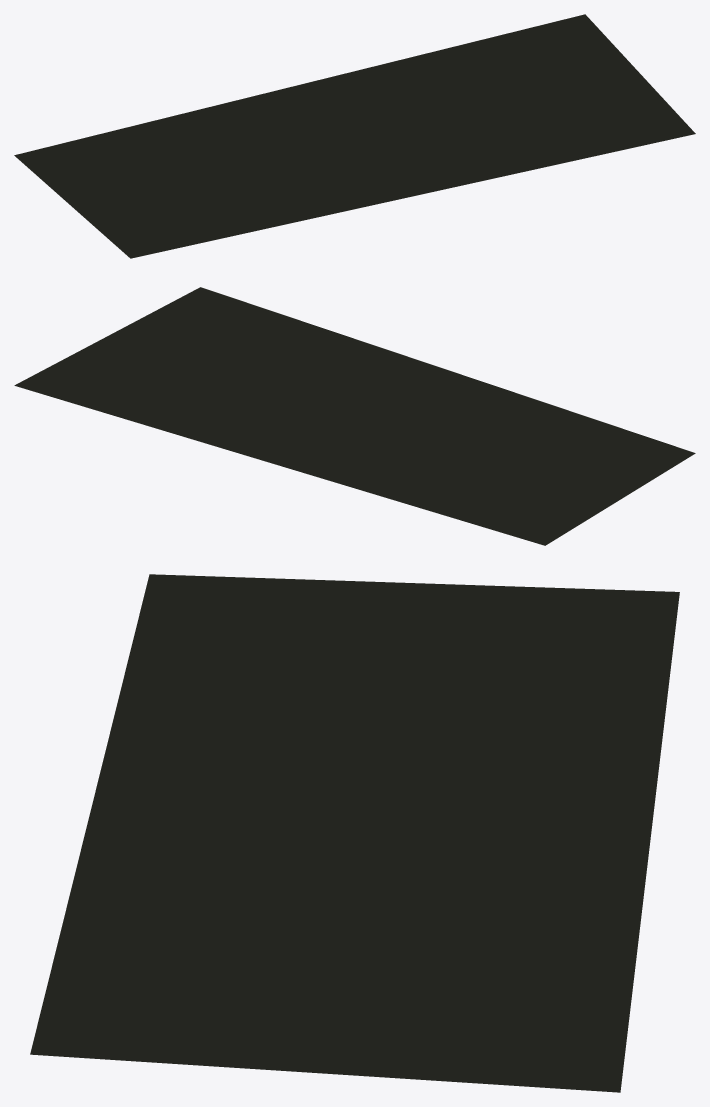
The model's file is OZ_99_sn_sdwbox04A.glb.
The picture shows the model from 3 angles, top to bottom: view 1: azimuth 30°, elevation 25°; view 2: azimuth 150°, elevation 25°; view 3: azimuth 270°, elevation 25°; orthographic projection. The views are drawn at different scales.
Parts seen in each view (by area): view 1: OM_99_sn_sdwbox04A; view 2: OM_99_sn_sdwbox04A; view 3: OM_99_sn_sdwbox04A.
Boxes of the visible parts, <box> form: OM_99_sn_sdwbox04A: <box>14,14,695,258</box>; OM_99_sn_sdwbox04A: <box>14,287,695,545</box>; OM_99_sn_sdwbox04A: <box>30,574,679,1092</box>.
Size of the model in its own units: 1.59 by 0.0435 by 0.7923.
1 material, 1 textured.
